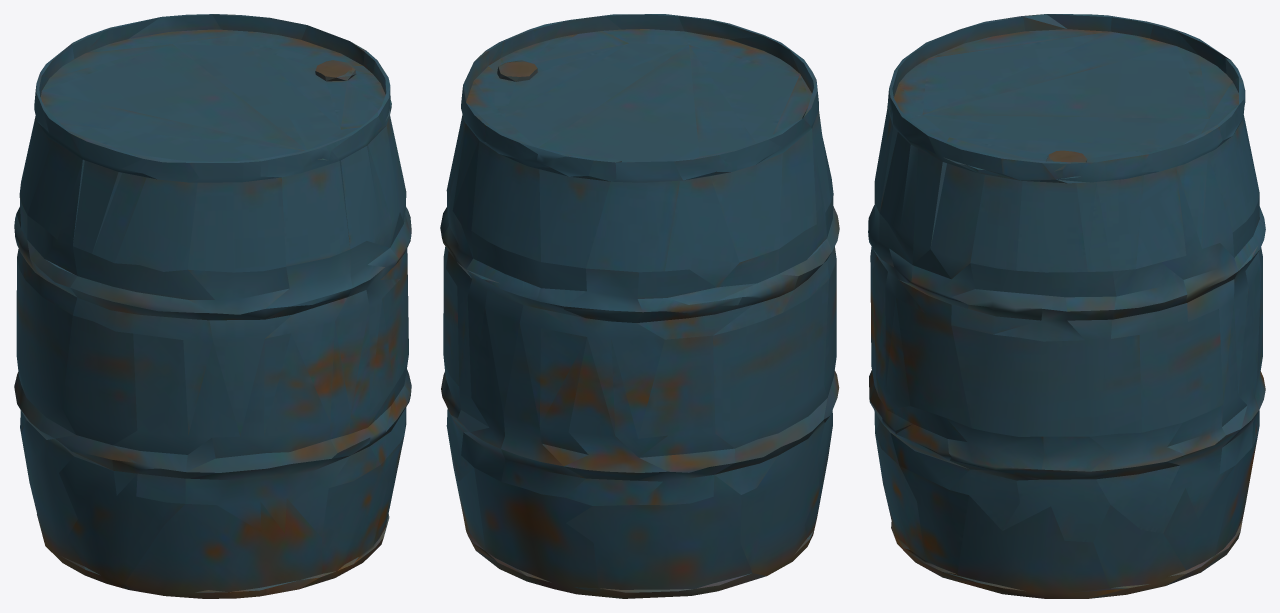
Rendered from Drum_Blue.glb.
3 views of the same model, side by side, from view 1: azimuth 30°, elevation 25°; view 2: azimuth 150°, elevation 25°; view 3: azimuth 270°, elevation 25° (orthographic).
Size of the model in its own units: 1.57 by 1.9 by 1.57.
Materials: 1 (1 with a texture image).
